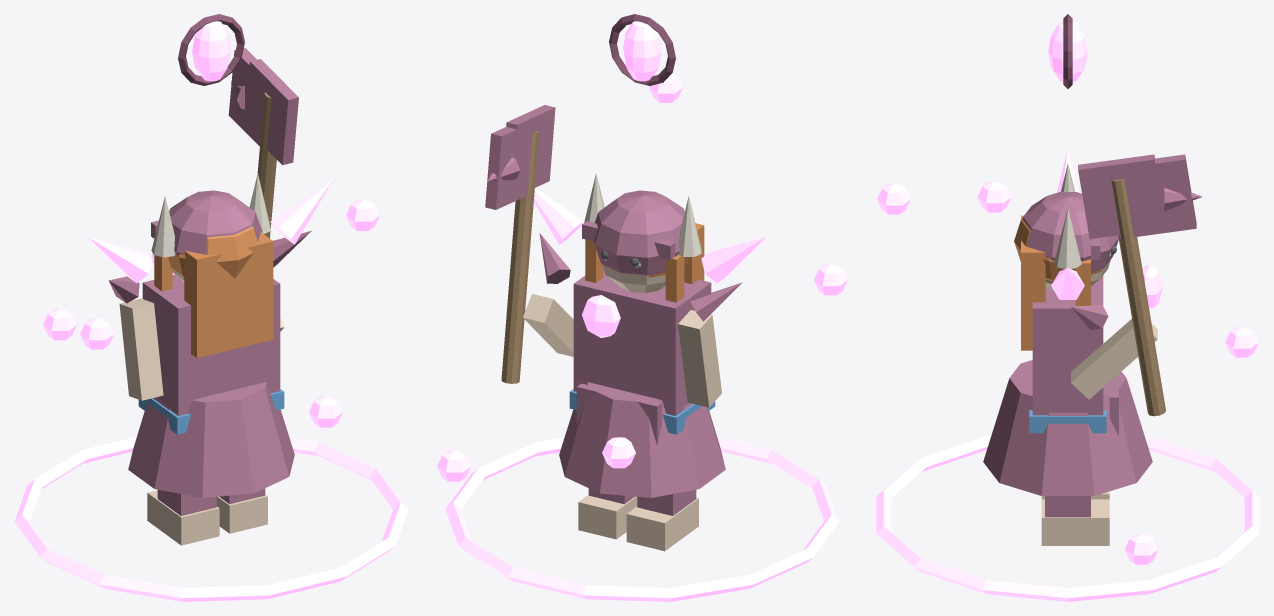
The model's file is evolved_valkyrie.glb.
The picture shows the model from 3 angles, left to right: view 1: azimuth 30°, elevation 25°; view 2: azimuth 150°, elevation 25°; view 3: azimuth 270°, elevation 25°; orthographic projection.
Parts seen in each view (by area): view 1: evolved_valkyrie; view 2: evolved_valkyrie; view 3: evolved_valkyrie.
Boxes of the visible parts, <box> form: evolved_valkyrie: <box>14,14,408,601</box>; evolved_valkyrie: <box>437,14,847,601</box>; evolved_valkyrie: <box>876,14,1259,601</box>.
Size of the model in its own units: 2.8 by 3.99 by 2.73.
